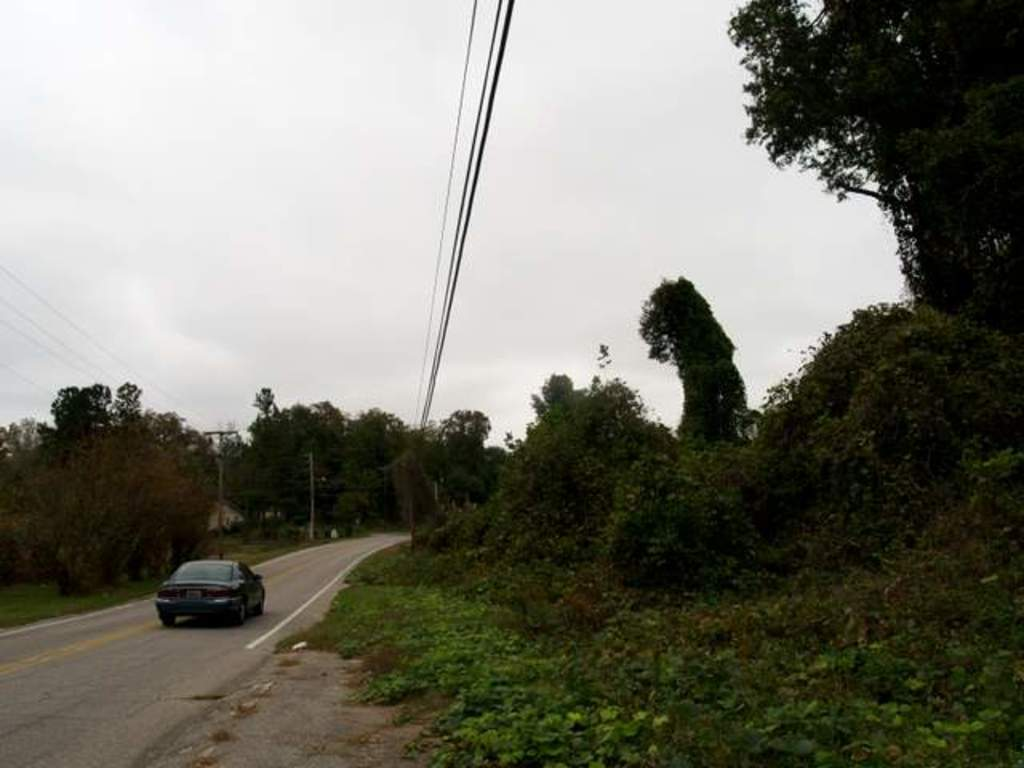mobil: (154, 554, 271, 639)
